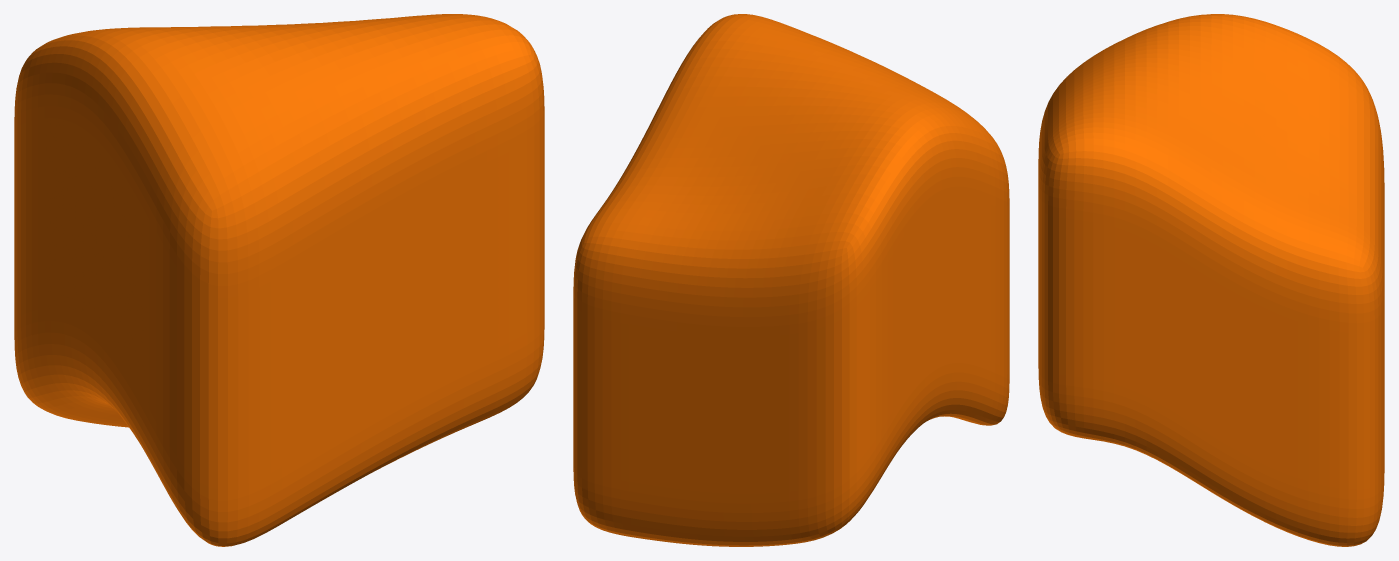
3 renders of one model, left to right at view 1: azimuth 30°, elevation 25°; view 2: azimuth 150°, elevation 25°; view 3: azimuth 270°, elevation 25°, orthographic. The views are drawn at different scales.
Visible parts, largest first — view 1: smooth_1_base.010; view 2: smooth_1_base.010; view 3: smooth_1_base.010.
Boxes of the visible parts, x1,y1,x2,y2 form: smooth_1_base.010: (14,14,544,546); smooth_1_base.010: (573,14,1009,546); smooth_1_base.010: (1038,14,1384,546).
Size of the model in its own units: 60 by 79.76 by 60.
